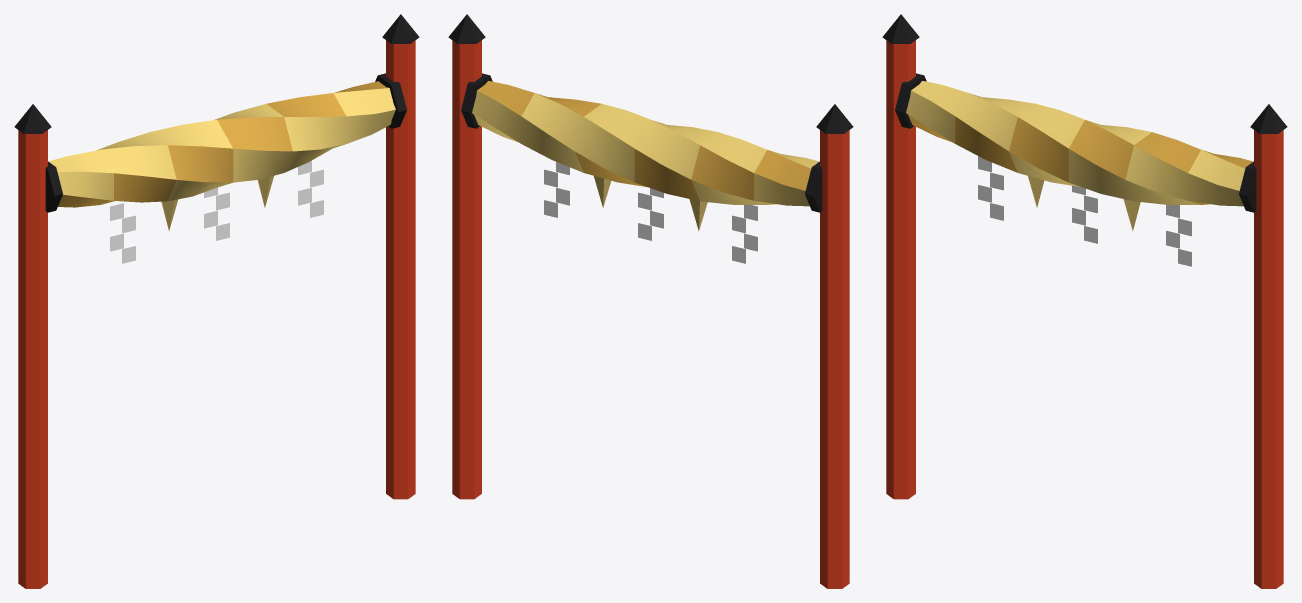
The model's file is Shimenawa.fbx.
3 renders of one model, left to right at view 1: azimuth 30°, elevation 25°; view 2: azimuth 150°, elevation 25°; view 3: azimuth 330°, elevation 25°, orthographic.
Visible parts, largest first — view 1: Shimenawa; view 2: Shimenawa; view 3: Shimenawa.
Boxes of the visible parts, x1,y1,x2,y2 form: Shimenawa: (14, 14, 419, 588); Shimenawa: (448, 14, 853, 588); Shimenawa: (882, 14, 1287, 588).
Bounding box in the file's own units: 2.31 × 2.68 × 0.3628.
